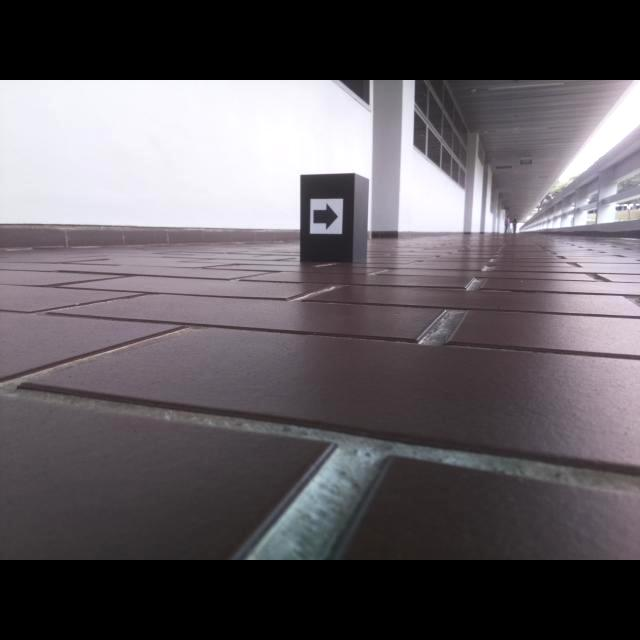RIGHT: (312, 202, 339, 232)
